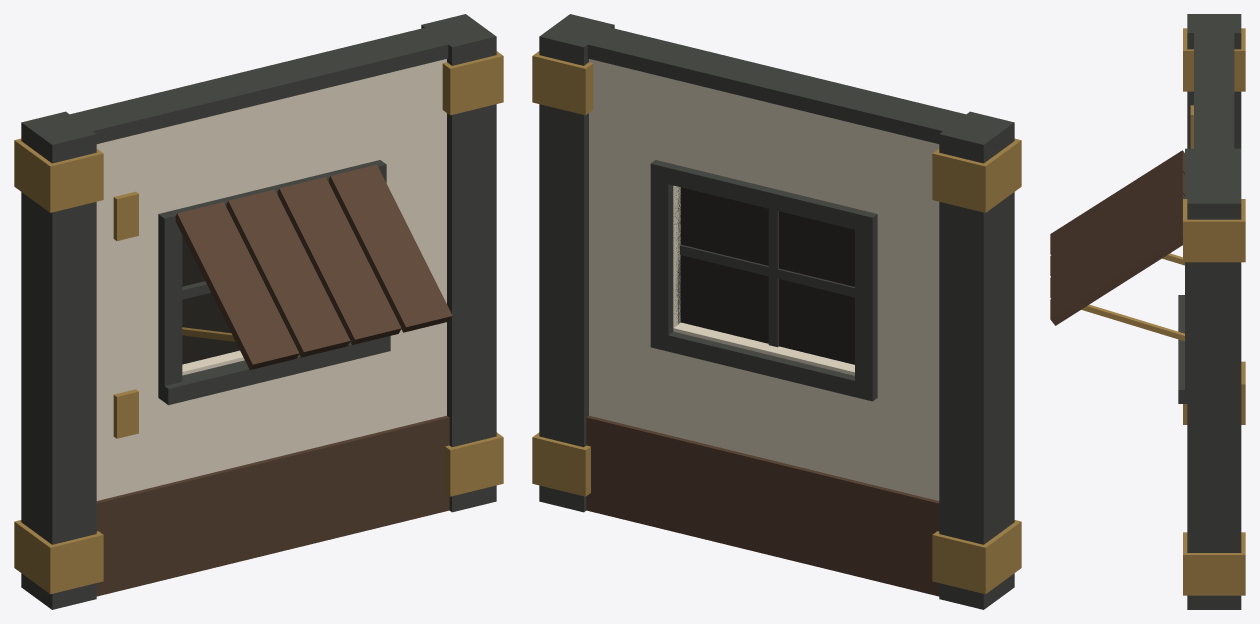
File: wall_window.glb
3 views of the same model, side by side, from view 1: azimuth 30°, elevation 25°; view 2: azimuth 150°, elevation 25°; view 3: azimuth 270°, elevation 25° (orthographic). The views are drawn at different scales.
Visible parts, largest first — view 1: wall_window; view 2: wall_window; view 3: wall_window.
Boxes of the visible parts, <box> form: wall_window: <box>14,14,503,609</box>; wall_window: <box>532,14,1021,609</box>; wall_window: <box>1050,14,1245,609</box>.
Bounding box in the file's own units: 2.04 × 2 × 0.8713.
